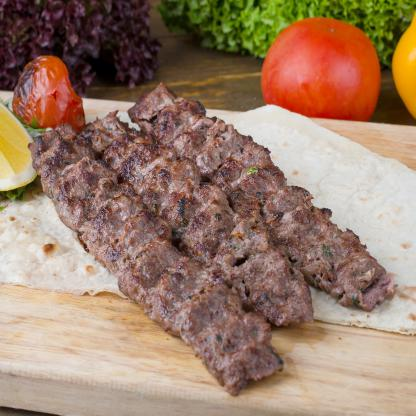Carne: (141, 153, 203, 226), (63, 175, 133, 233), (182, 184, 240, 254), (224, 154, 276, 216), (258, 194, 316, 244), (292, 230, 350, 278), (336, 258, 395, 304), (185, 304, 243, 350), (85, 208, 140, 256), (210, 227, 266, 274), (148, 269, 206, 314), (204, 341, 265, 382), (233, 247, 284, 294), (113, 240, 170, 282), (213, 138, 260, 188), (44, 153, 91, 201), (258, 279, 311, 321), (139, 94, 187, 139), (101, 139, 150, 182), (30, 130, 87, 165), (161, 113, 205, 151), (192, 125, 226, 173), (82, 122, 131, 151)
